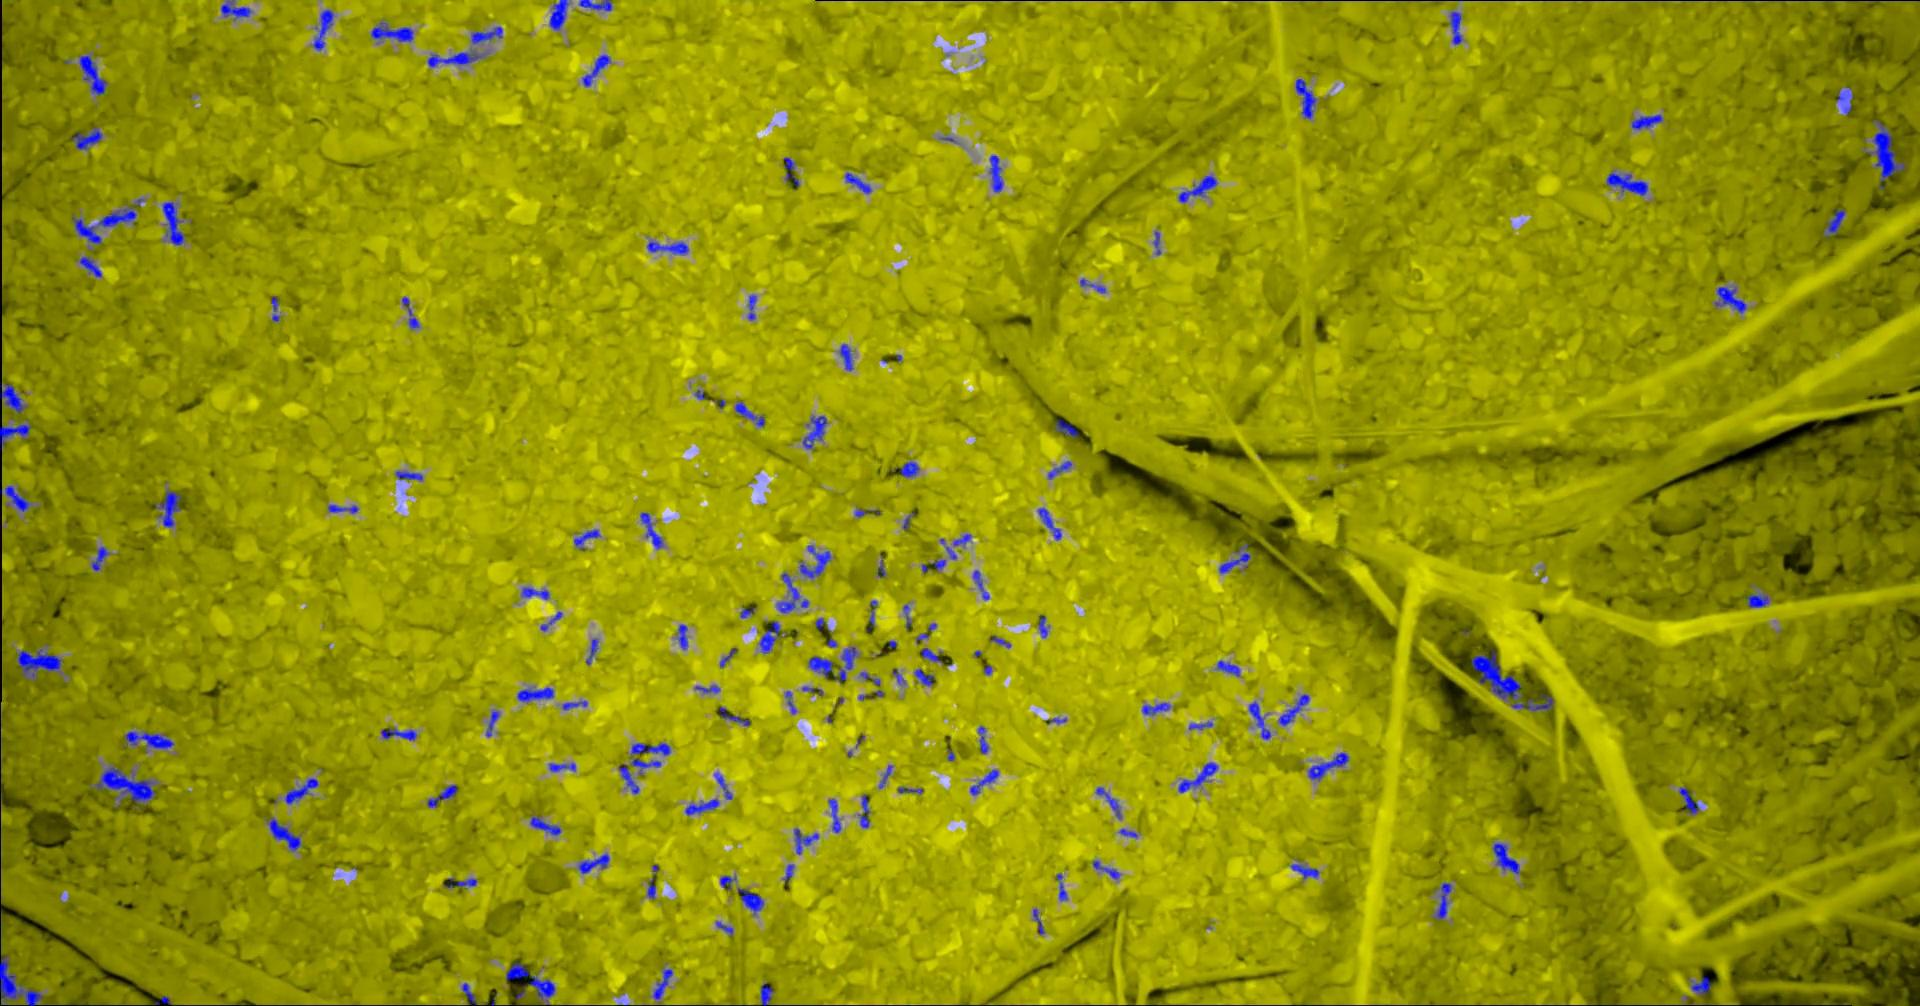ant: (1865, 119, 1905, 189), (71, 206, 136, 243), (95, 767, 154, 807), (0, 953, 43, 1005), (505, 962, 555, 1005), (630, 742, 670, 775), (17, 648, 61, 677), (1178, 762, 1217, 793), (1308, 752, 1349, 780), (268, 817, 301, 850), (79, 55, 105, 95), (152, 490, 182, 527), (1177, 175, 1217, 202), (799, 545, 830, 578), (161, 201, 184, 245), (1277, 694, 1309, 725), (1606, 171, 1647, 196), (1218, 542, 1250, 573), (832, 647, 858, 681), (427, 50, 481, 66), (582, 55, 610, 86), (776, 572, 797, 612), (124, 730, 173, 748), (1714, 286, 1746, 312), (312, 9, 333, 50), (1295, 77, 1316, 118), (370, 22, 413, 41), (1248, 701, 1270, 739), (639, 512, 662, 547), (1492, 842, 1519, 873), (1095, 786, 1120, 818), (284, 779, 317, 803), (0, 485, 30, 511), (1037, 507, 1062, 539), (803, 415, 825, 448), (0, 384, 25, 413), (735, 400, 764, 426), (969, 768, 998, 794), (0, 424, 30, 448), (737, 888, 763, 915), (71, 126, 102, 149), (427, 784, 457, 807), (792, 828, 818, 854), (759, 620, 778, 653), (549, 0, 569, 30), (1435, 882, 1451, 918), (717, 706, 749, 725), (578, 854, 610, 873), (618, 763, 639, 793), (220, 0, 250, 19), (530, 815, 560, 835), (653, 968, 672, 998), (844, 171, 871, 193), (573, 528, 599, 550), (1823, 210, 1844, 238), (684, 798, 719, 814), (470, 25, 502, 43), (1677, 788, 1698, 814), (646, 241, 688, 254), (401, 296, 418, 328), (808, 655, 832, 677), (971, 570, 989, 600), (516, 687, 552, 701), (1092, 860, 1119, 879), (1630, 114, 1662, 130), (1836, 86, 1853, 116), (714, 772, 731, 799), (1448, 11, 1462, 44), (1054, 418, 1078, 437), (989, 155, 1002, 191), (381, 728, 417, 741), (79, 257, 102, 276), (1048, 460, 1070, 479), (828, 798, 841, 832), (91, 546, 109, 570), (838, 343, 853, 370), (895, 461, 919, 478), (783, 158, 797, 185), (521, 586, 549, 600), (1290, 864, 1318, 878), (1690, 976, 1710, 995), (461, 982, 477, 1005), (648, 864, 658, 899), (1079, 278, 1105, 292), (919, 647, 942, 662), (585, 638, 598, 664), (485, 711, 499, 735), (578, 0, 611, 10), (858, 794, 869, 827), (443, 876, 476, 887), (1217, 661, 1239, 674), (1142, 702, 1170, 714), (1055, 873, 1067, 901), (759, 982, 773, 1005), (914, 668, 933, 685), (977, 727, 988, 753), (1746, 593, 1768, 607), (676, 624, 687, 649), (328, 504, 357, 513), (1032, 908, 1043, 934), (785, 691, 796, 713), (695, 683, 719, 694), (395, 471, 422, 480), (549, 762, 575, 771), (782, 864, 792, 887), (719, 875, 735, 889), (270, 296, 279, 321), (747, 295, 756, 320), (952, 533, 971, 545), (563, 700, 587, 709), (1037, 616, 1048, 636), (1153, 231, 1161, 254), (1189, 721, 1211, 729), (154, 995, 170, 1005)
